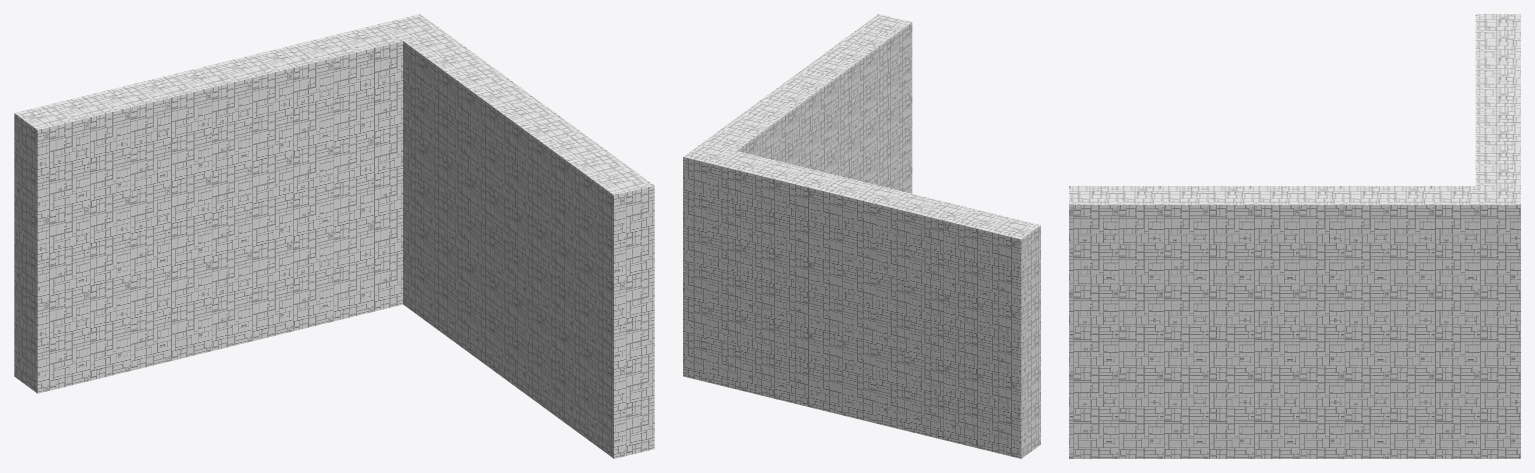
The model's file is PanelWallCorner.fbx.
The picture shows the model from 3 angles, left to right: view 1: azimuth 30°, elevation 25°; view 2: azimuth 150°, elevation 25°; view 3: azimuth 270°, elevation 25°; orthographic projection. The views are drawn at different scales.
Parts seen in each view (by area): view 1: Panel Corner; view 2: Panel Corner; view 3: Panel Corner.
Part boxes in pixels (x1,y1,x2,y2): Panel Corner: (14, 14, 654, 458); Panel Corner: (683, 14, 1040, 458); Panel Corner: (1069, 14, 1520, 458).
Bounding box in the file's own units: 1000 × 620 × 1000.
Materials: 1 (1 with a texture image).
